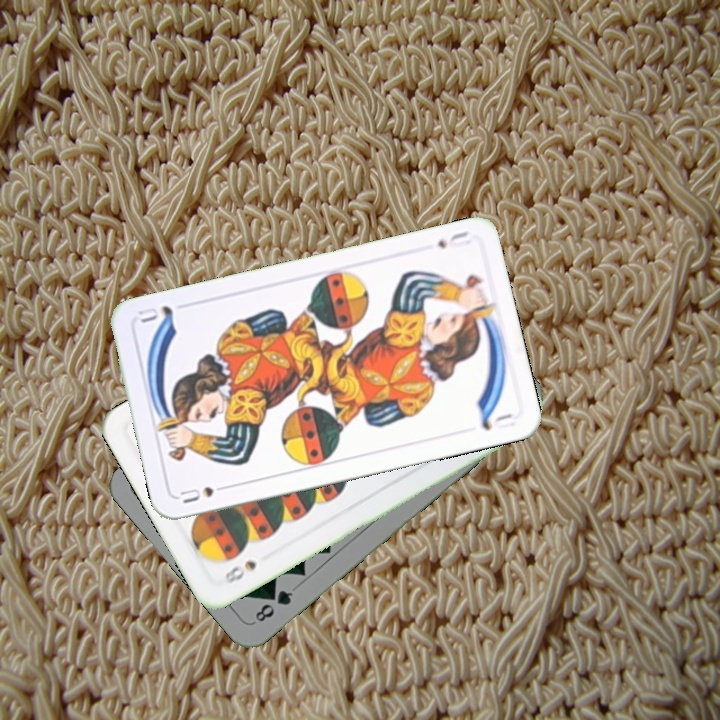G8: (250, 585, 296, 625)
S8: (220, 556, 259, 587)
SU: (176, 480, 234, 506), (433, 227, 473, 251)
